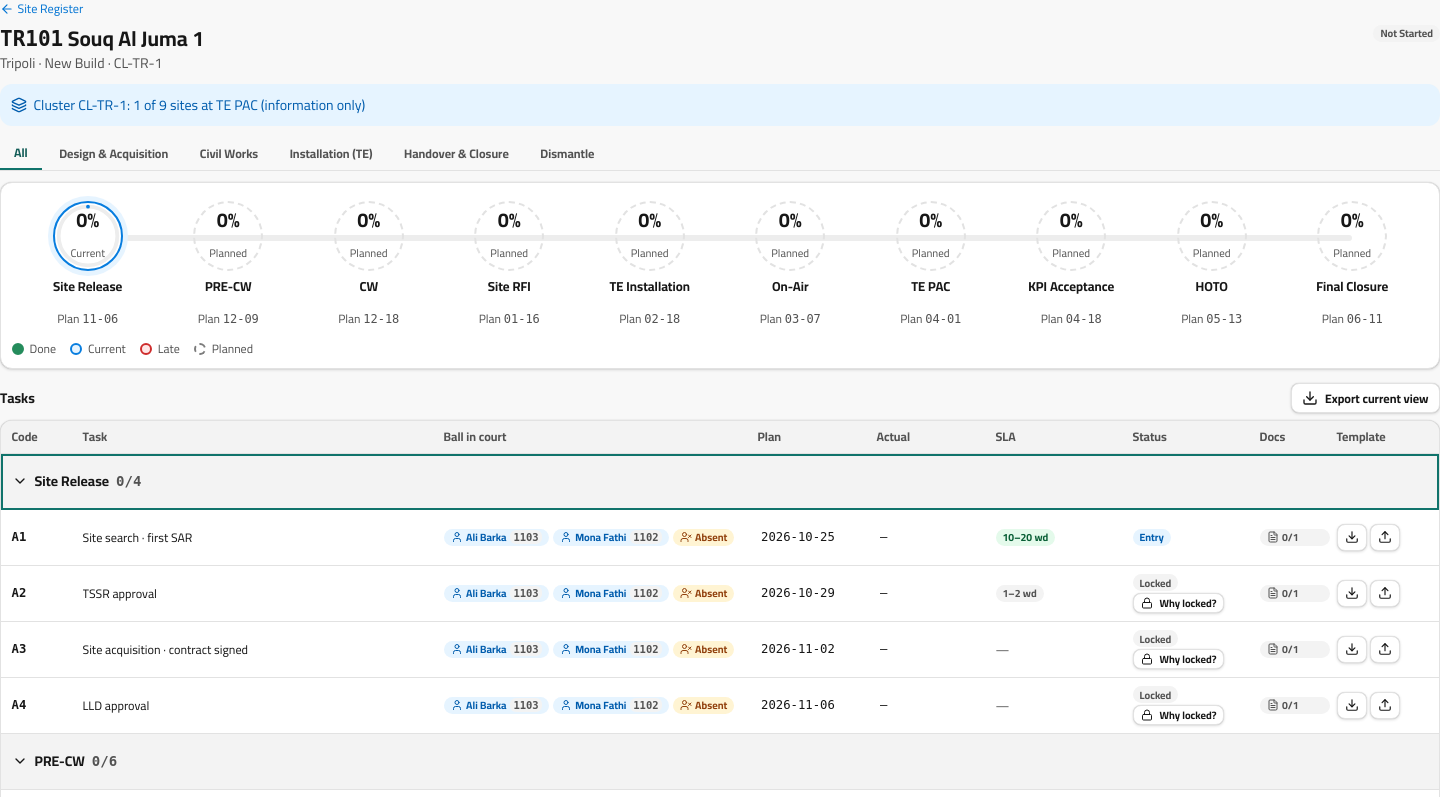
Test case: Task grid › offers a per-task template download and explains a lock
What coordinates should you click on to do the following:
click the button named "Download template for A1"
I would click on:
 (1352, 537)
Its box is left=1336, top=524, right=1366, bottom=550.
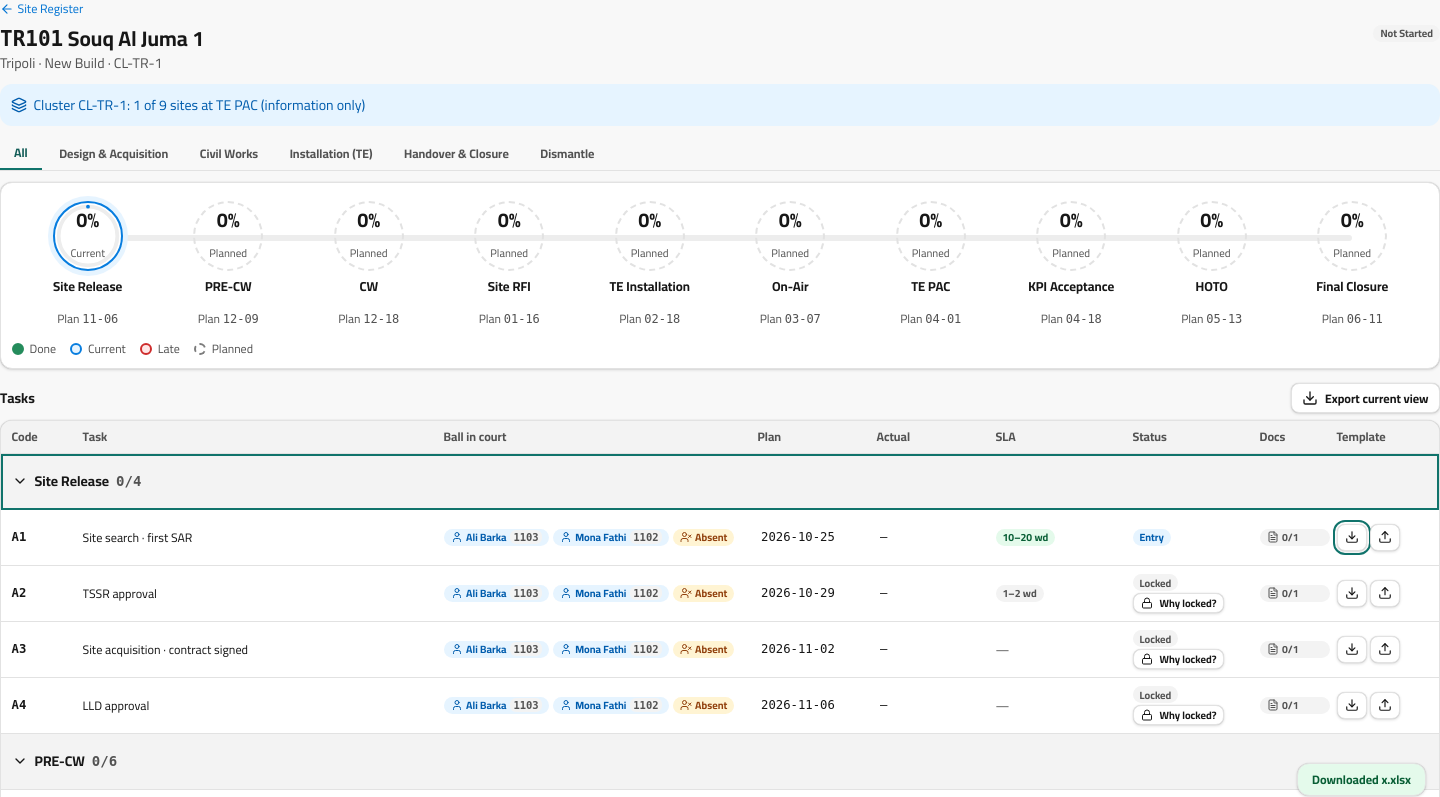
What coordinates should you click on to do the following:
click the 1st button "Why locked?"
I would click on:
 (1178, 603)
Its box is left=1132, top=593, right=1224, bottom=613.
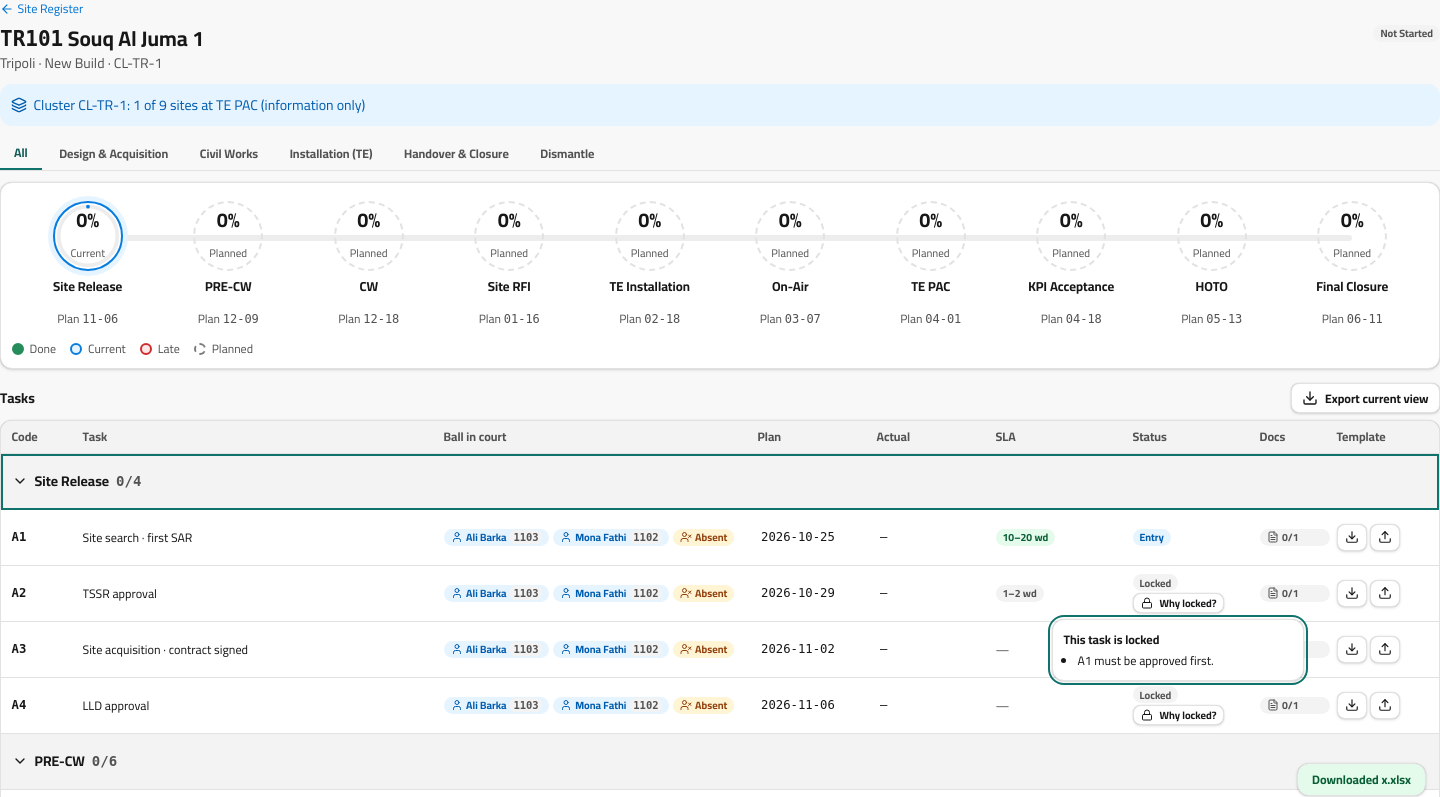
Expected: the dialog with test id "why-locked-card" shows "approved first", left=1078, top=648, right=1214, bottom=672
